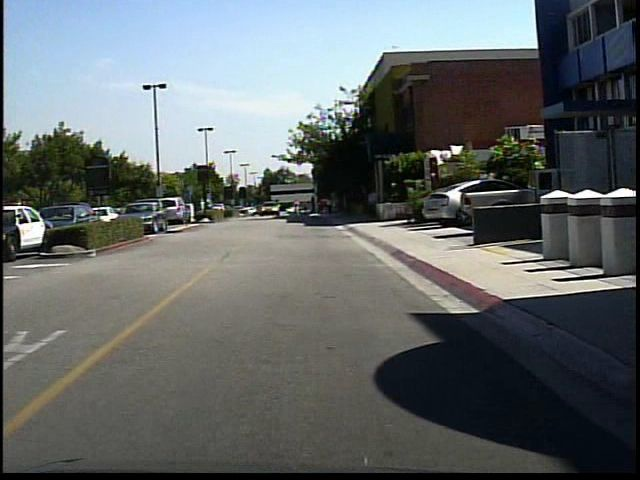person: (196, 191, 212, 219), (291, 194, 306, 221)
